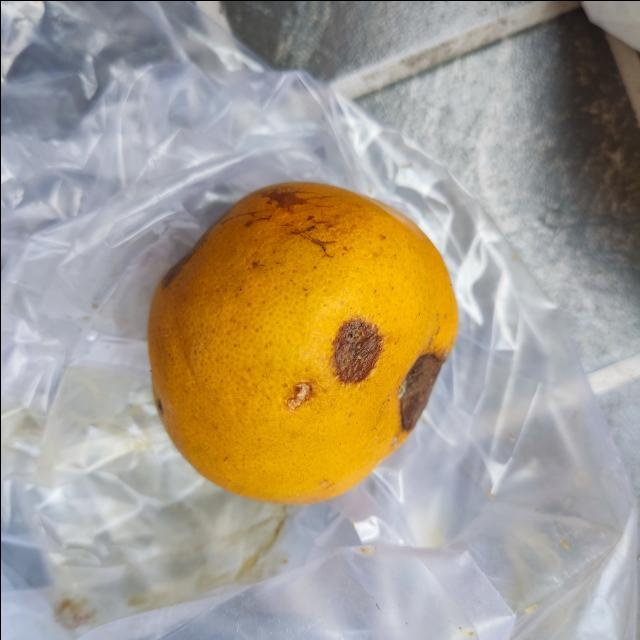agrume: (143, 179, 464, 505)
